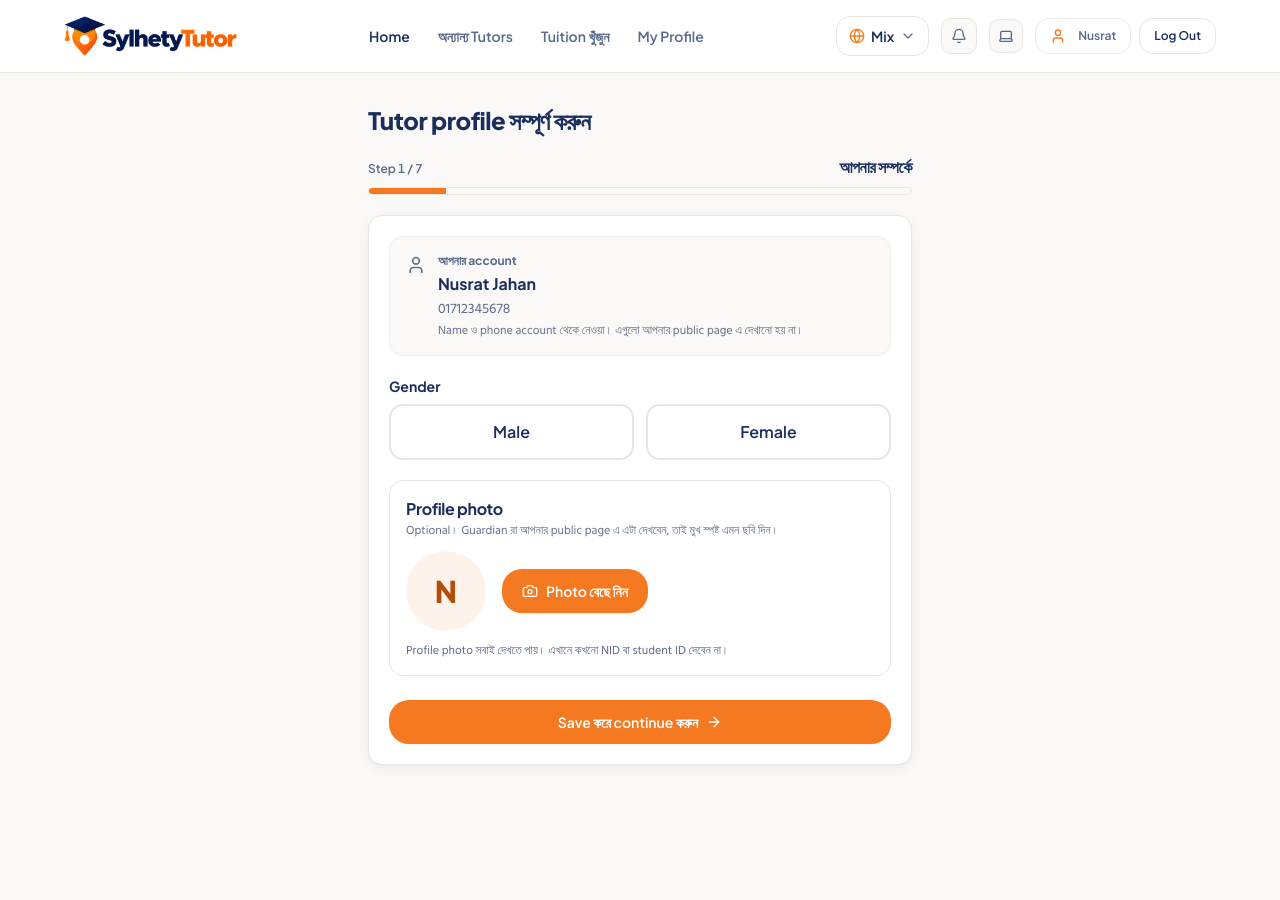
Test: TutorRegistration › asks for a gender before moving on and sends nothing
Click the button "Save করে continue করুন" at coordinates (640, 722), box left=389, top=700, right=891, bottom=744
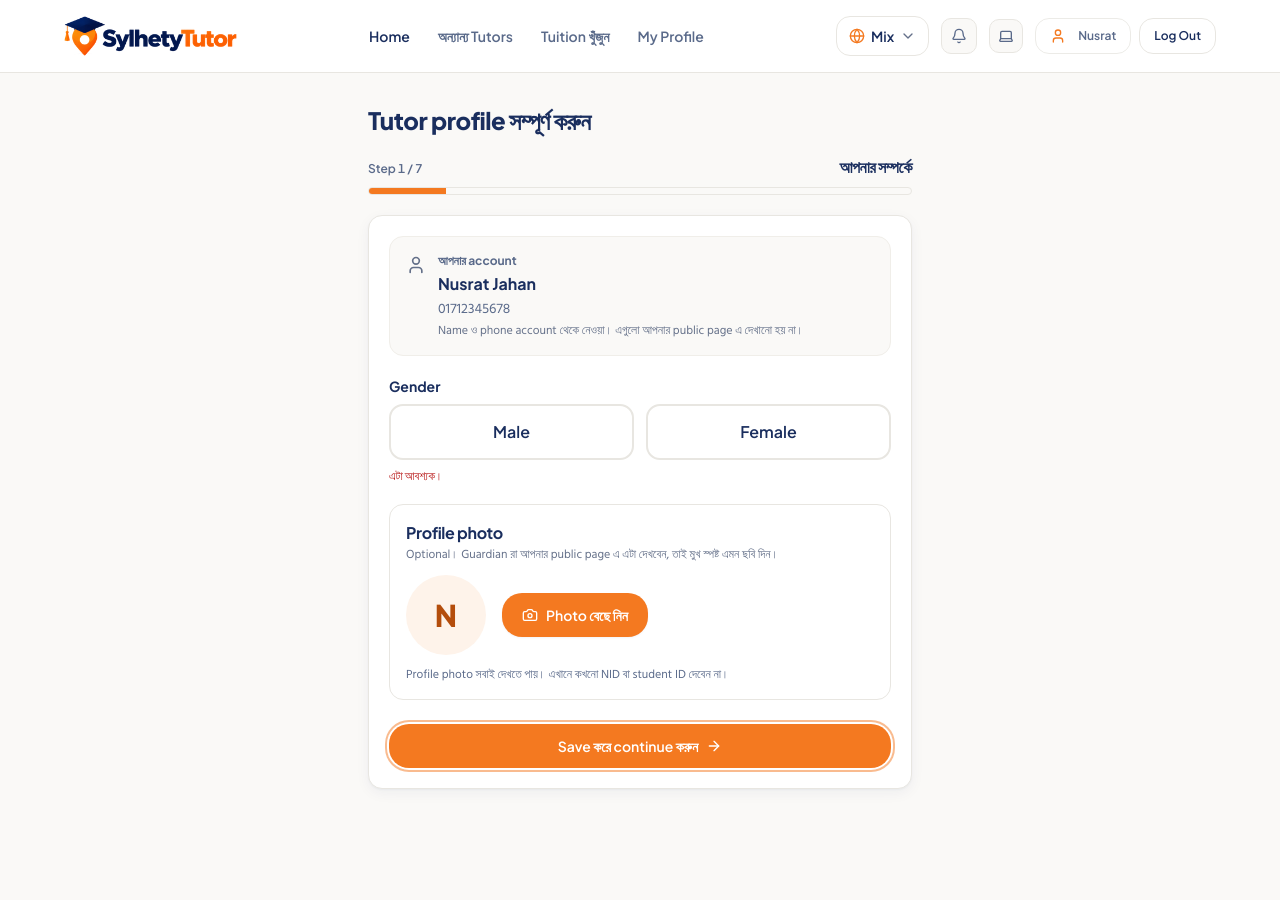
Check: the text "Step 1 / 7" is shown, box left=368, top=161, right=422, bottom=177
Check: the message reads "এটা আবশ্যক।", box left=389, top=468, right=443, bottom=483
